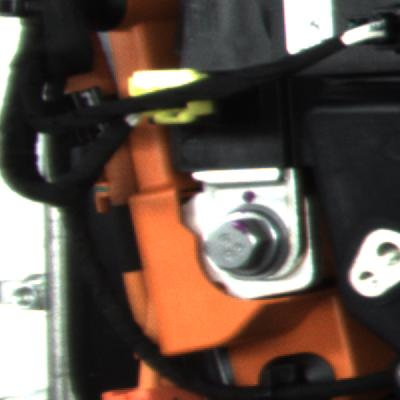nut_b: (198, 202, 298, 290)
